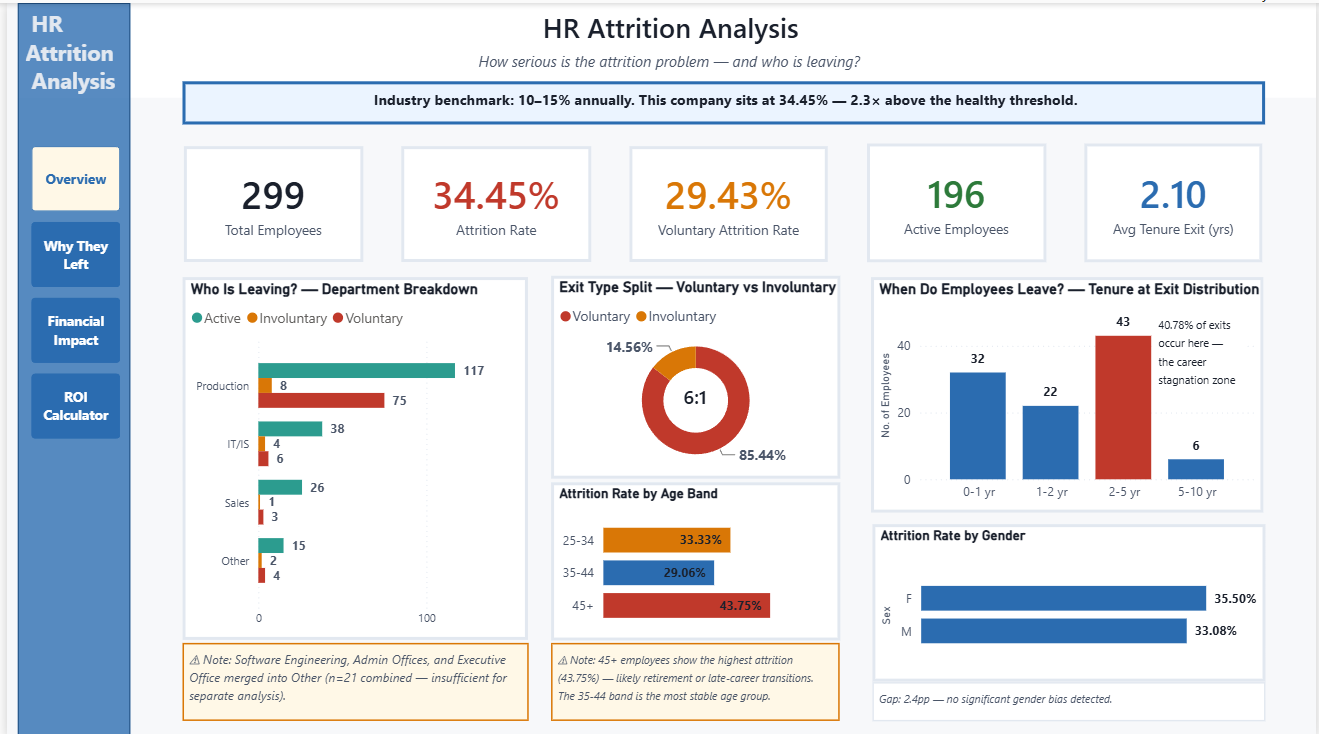

The page's visual inventory and layout, read from the dashboard file:
{"tool":"powerbi","page":{"name":"Overview","canvas":[1280,720],"ordinal":0},"visuals":[{"type":"textbox","box":[11,0,1269.6,57.4],"z":0},{"type":"textbox","box":[10.6,42.2,1269.8,50.2],"z":1000},{"type":"textbox","box":[171.8,76.4,1058.5,42.4],"z":2000},{"type":"cardVisual","fields":{"Data":["_Measures.Total_Employees"]},"box":[172.9,139.9,175.6,113.5],"z":3000},{"type":"cardVisual","fields":{"Data":["_Measures.Attrition_Rate"]},"box":[385.8,139.9,186.1,113.5],"z":4000},{"type":"cardVisual","fields":{"Data":["_Measures.Voluntary_Rate"]},"box":[609.2,139.9,194,113.5],"z":5000},{"type":"cardVisual","fields":{"Data":["_Measures.Active_Headcount"]},"box":[840.5,137.3,175.6,116.2],"z":6000},{"type":"cardVisual","fields":{"Data":["_Measures.Avg_Tenure_Exit"]},"box":[1053.3,137.3,174.2,116.2],"z":7000},{"type":"clusteredBarChart","title":"Who Is Leaving? — Department Breakdown","fields":{"Category":["hr_master.DeptGroup"],"Y":["CountNonNull(hr_master.EmpID)"],"Series":["hr_master.TermTypeSimple"]},"box":[171.2,267.5,337.5,355],"z":8000},{"type":"textbox","box":[171.2,626.2,338.8,76.2],"z":9000},{"type":"donutChart","title":"Exit Type Split — Voluntary vs Involuntary","fields":{"Category":["hr_master.TermType"],"Y":["CountNonNull(hr_master.EmpID)"]},"box":[532.1,267.2,282.6,198.7],"z":10000},{"type":"textbox","box":[653.4,366.9,38.8,37.5],"z":11000},{"type":"clusteredColumnChart","title":"When Do Employees Leave? — Tenure at Exit Distribution","fields":{"Category":["hr_master.TenureBand"],"Y":["CountNonNull(hr_master.EmpID)"]},"box":[845,267.6,383.8,230.6],"z":12000},{"type":"textbox","box":[1121,299.6,90.9,84.2],"z":13000},{"type":"clusteredBarChart","title":"Attrition Rate by Gender","fields":{"Category":["hr_master.Sex"],"Y":["_Measures.Attrition_Rate"]},"box":[846.1,509.5,384.1,154.4],"z":14000},{"type":"textbox","box":[846.1,663.9,384.1,38.3],"z":15000},{"type":"clusteredBarChart","title":"Attrition Rate by Age Band","fields":{"Y":["_Measures.Attrition_Rate"],"Category":["hr_master.AgeBand"]},"box":[532.1,468.1,282.6,154.6],"z":16000},{"type":"textbox","box":[532.4,625.8,282.1,76.4],"z":17000},{"type":"shape","box":[10,0,110,720],"z":18000},{"type":"textbox","box":[12.7,0,108.2,97.6],"z":19000},{"type":"pageNavigator","box":[24.2,139.3,87.8,287.7],"z":20000}]}

Visuals, with their boxes on the page's 1280x720 design canvas (x1, y1, x2, y2). These are canvas units, not pixel positions in the 1319x734 screenshot, which may show the page scaled, cropped or inside an application window:
textbox: l=11, t=0, r=1281, b=57
textbox: l=11, t=42, r=1280, b=92
textbox: l=172, t=76, r=1230, b=119
cardVisual - _Measures.Total_Employees: l=173, t=140, r=348, b=253
cardVisual - _Measures.Attrition_Rate: l=386, t=140, r=572, b=253
cardVisual - _Measures.Voluntary_Rate: l=609, t=140, r=803, b=253
cardVisual - _Measures.Active_Headcount: l=840, t=137, r=1016, b=254
cardVisual - _Measures.Avg_Tenure_Exit: l=1053, t=137, r=1228, b=254
"Who Is Leaving? — Department Breakdown" clusteredBarChart: l=171, t=268, r=509, b=622
textbox: l=171, t=626, r=510, b=702
"Exit Type Split — Voluntary vs Involuntary" donutChart: l=532, t=267, r=815, b=466
textbox: l=653, t=367, r=692, b=404
"When Do Employees Leave? — Tenure at Exit Distribution" clusteredColumnChart: l=845, t=268, r=1229, b=498
textbox: l=1121, t=300, r=1212, b=384
"Attrition Rate by Gender" clusteredBarChart: l=846, t=510, r=1230, b=664
textbox: l=846, t=664, r=1230, b=702
"Attrition Rate by Age Band" clusteredBarChart: l=532, t=468, r=815, b=623
textbox: l=532, t=626, r=814, b=702
shape: l=10, t=0, r=120, b=720
textbox: l=13, t=0, r=121, b=98
pageNavigator: l=24, t=139, r=112, b=427
